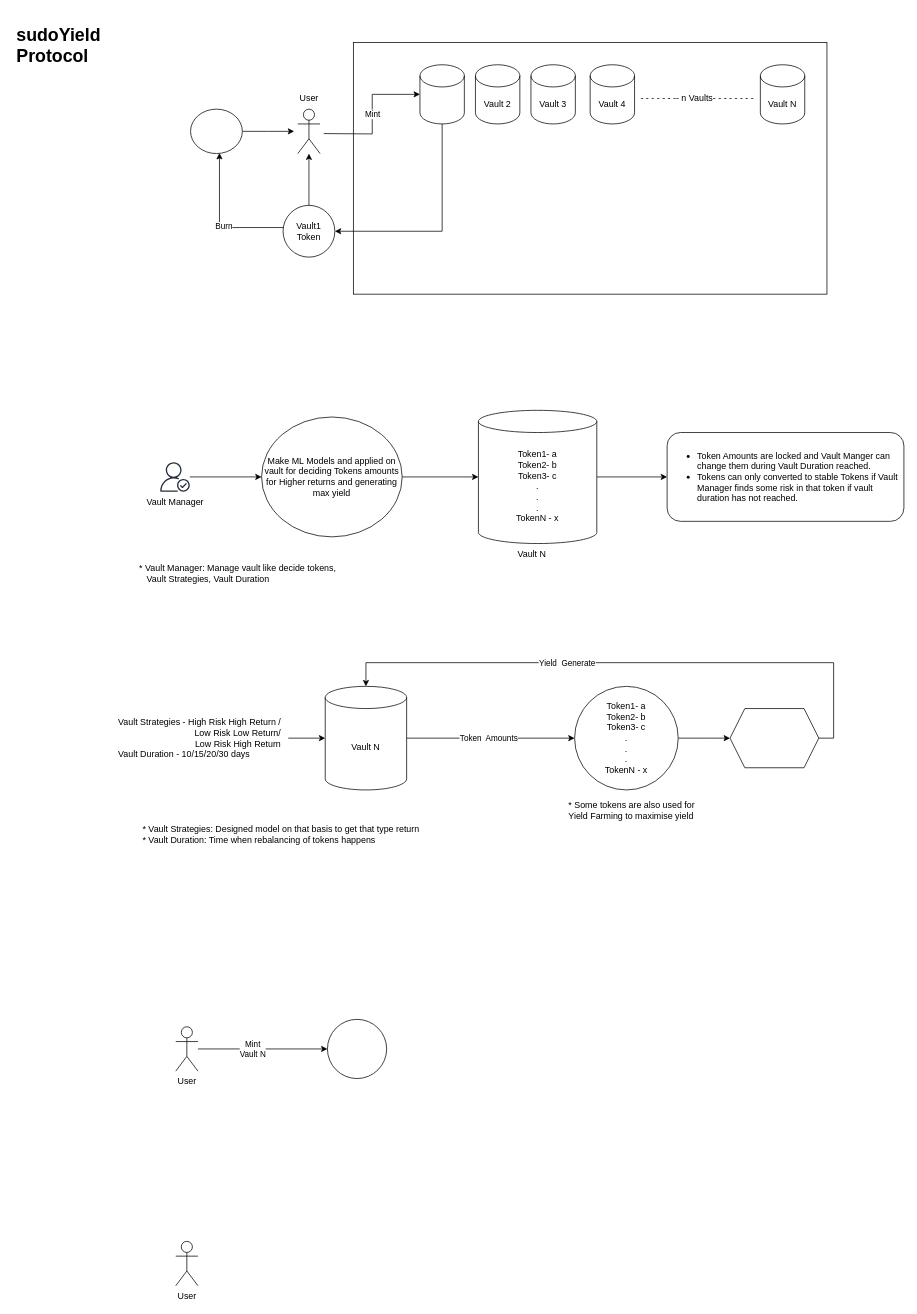
The diagram is 917 pixels wide and 1314 high, and some of its shapes have lost their labels. Each missing label, with the centre of its shape:
"Token 2 Token 3 used for Yield Farming" goes at (774,738).
"USDC" goes at (216,131).
"Vault 1" goes at (441,94).
